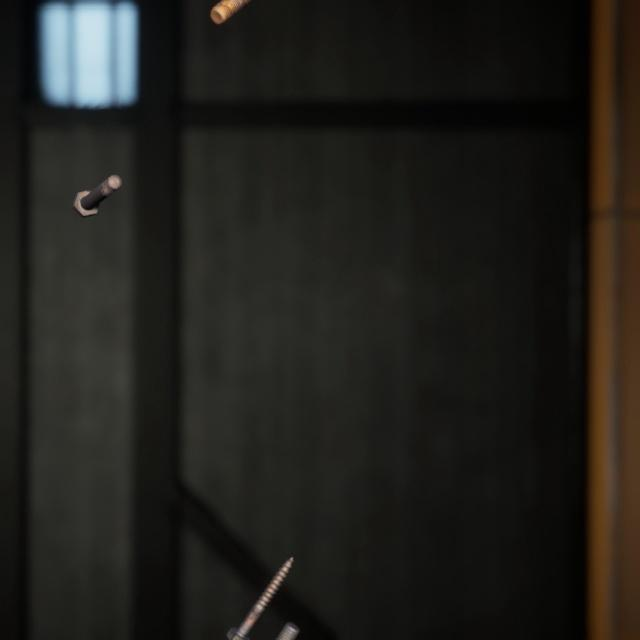bolt: (221, 527, 298, 628), (67, 155, 126, 207), (254, 592, 304, 640), (205, 0, 249, 22)
